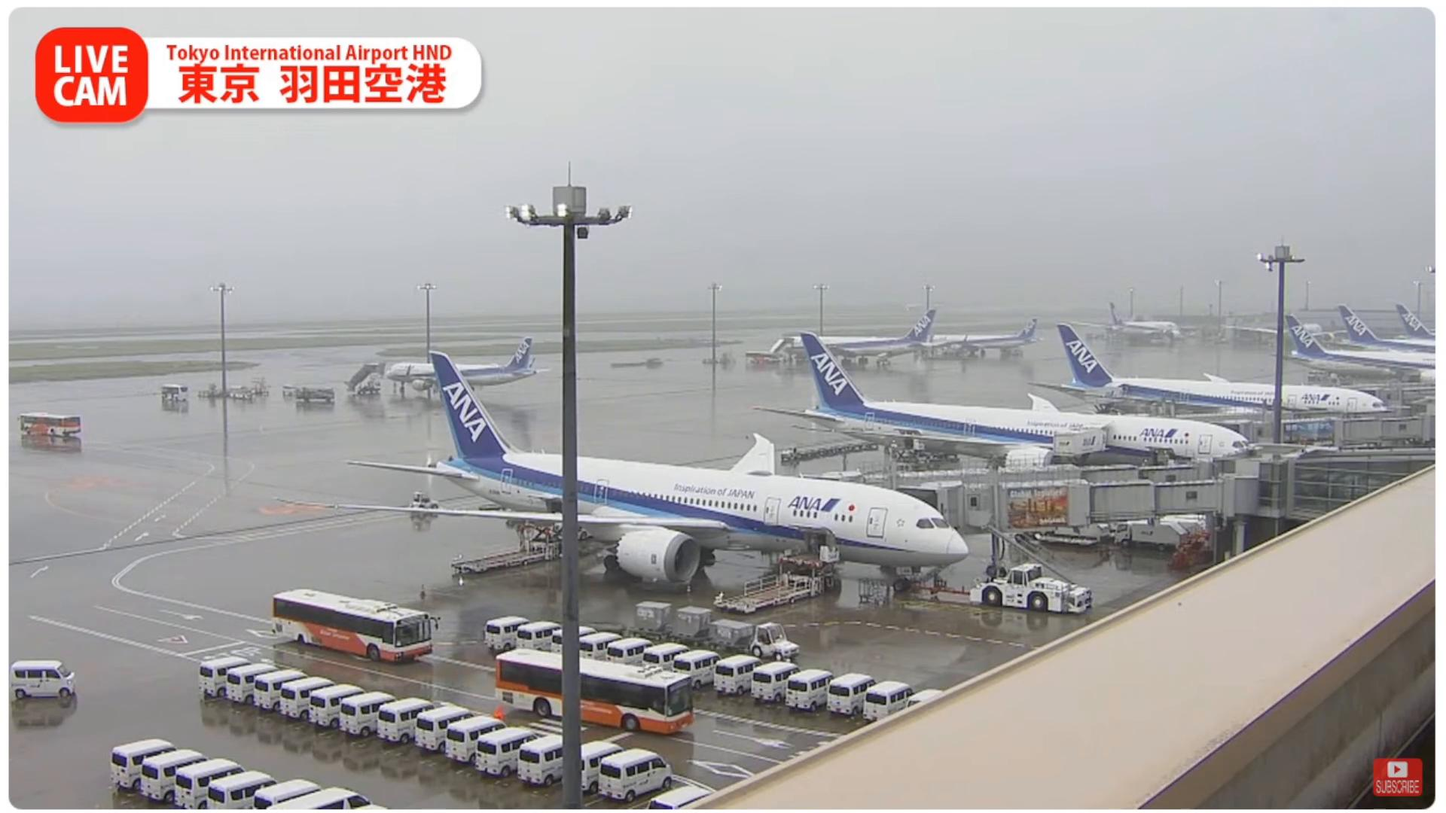APS: (968, 562, 1094, 614)
Aerobridge: (892, 474, 1261, 535), (796, 455, 1210, 487)
Airplane: (270, 351, 970, 592)
Dolly: (582, 623, 752, 654)
JCPL: (709, 553, 838, 614), (447, 522, 563, 573)
Tractor: (751, 621, 799, 659)
Window: (1292, 458, 1433, 516)
